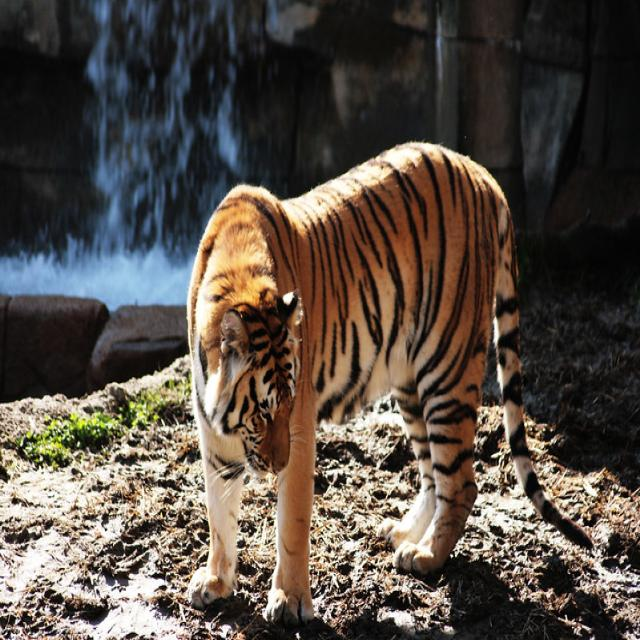Tiger: (174, 140, 554, 624)
